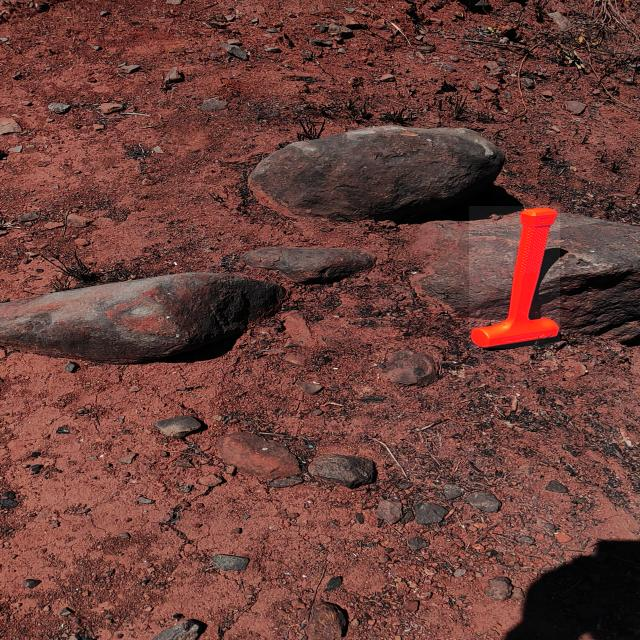Orange_hammer: (469, 206, 560, 348)
